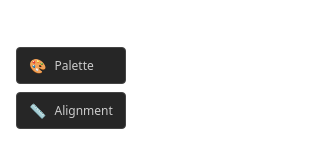
Test: DiffOverlay Components (Story 7.8) › Accessibility › should indicate pressed state on toggle buttons
Click the button with test id "palette-toggle".
click(71, 66)  # box [16,47,126,84]
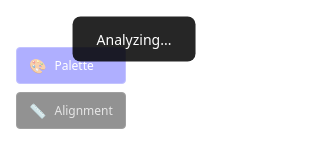
Result: the button with test id "palette-toggle" is pressed at [16,47,126,84]
